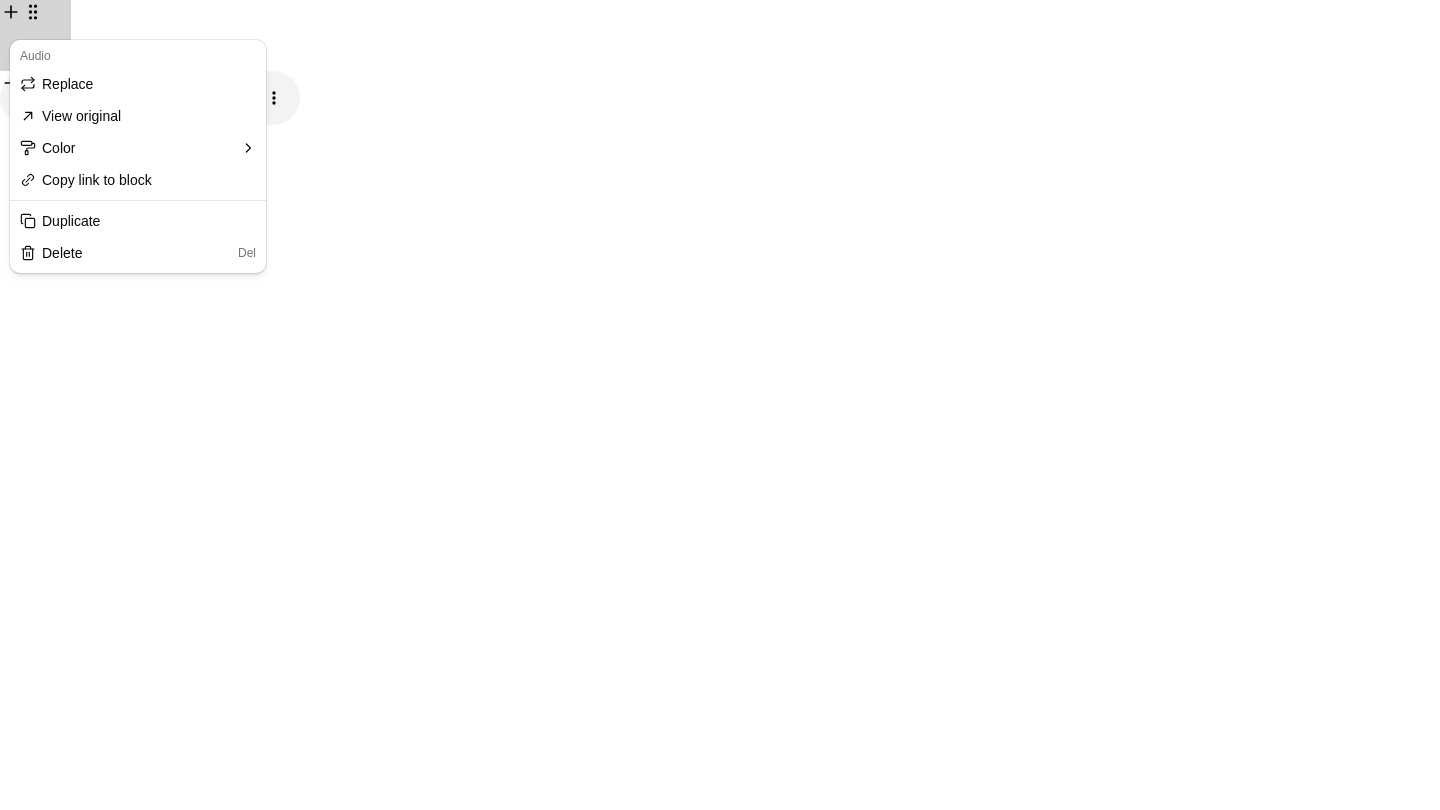
Test case: BlockActionsDropdown — media actions › shows Replace for audio blocks and opens the media popover
The image size is (1440, 810).
Click the menu item "Replace" at coordinates (138, 84), box [14, 68, 262, 100]
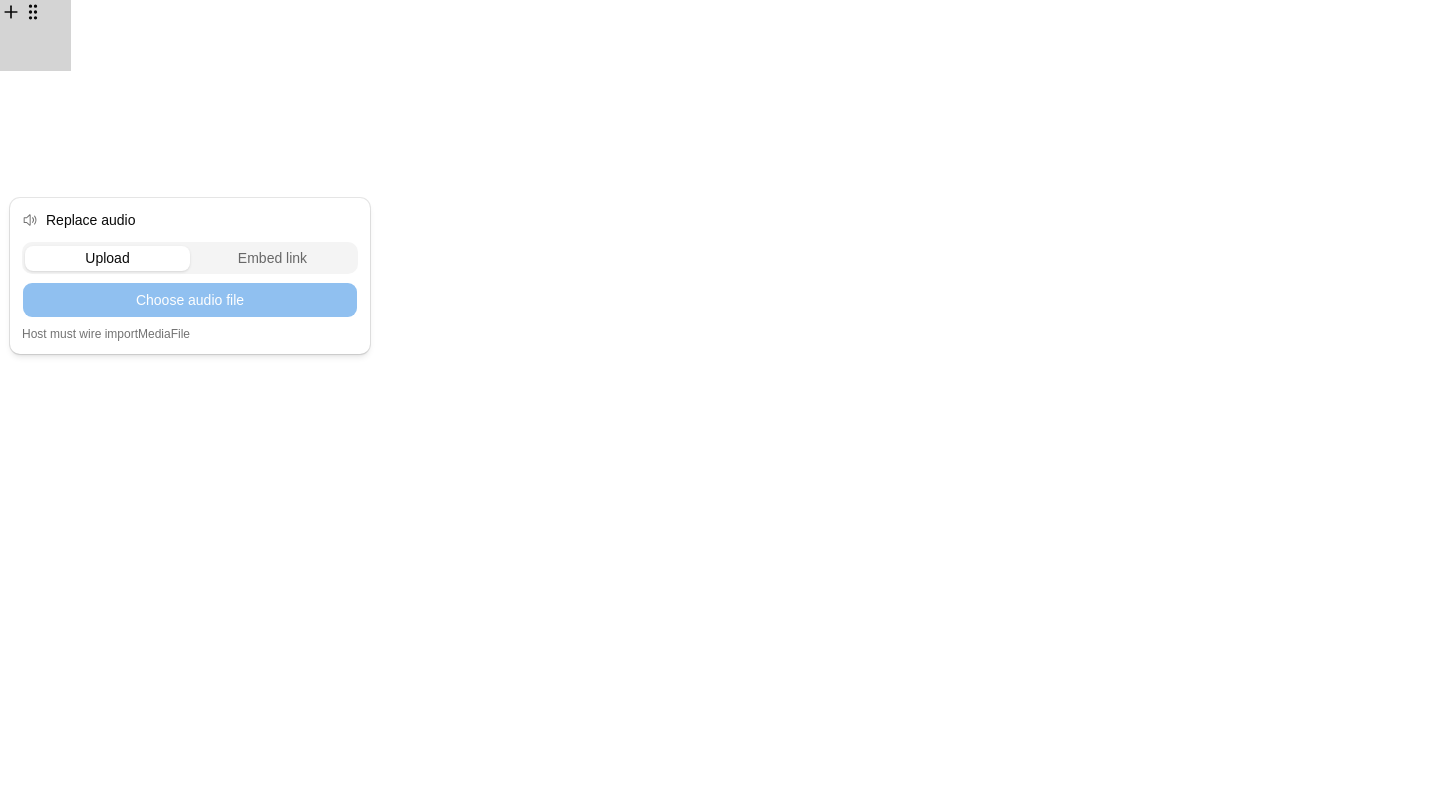
Result: the text "Replace audio" is shown at [46, 210, 136, 230]
